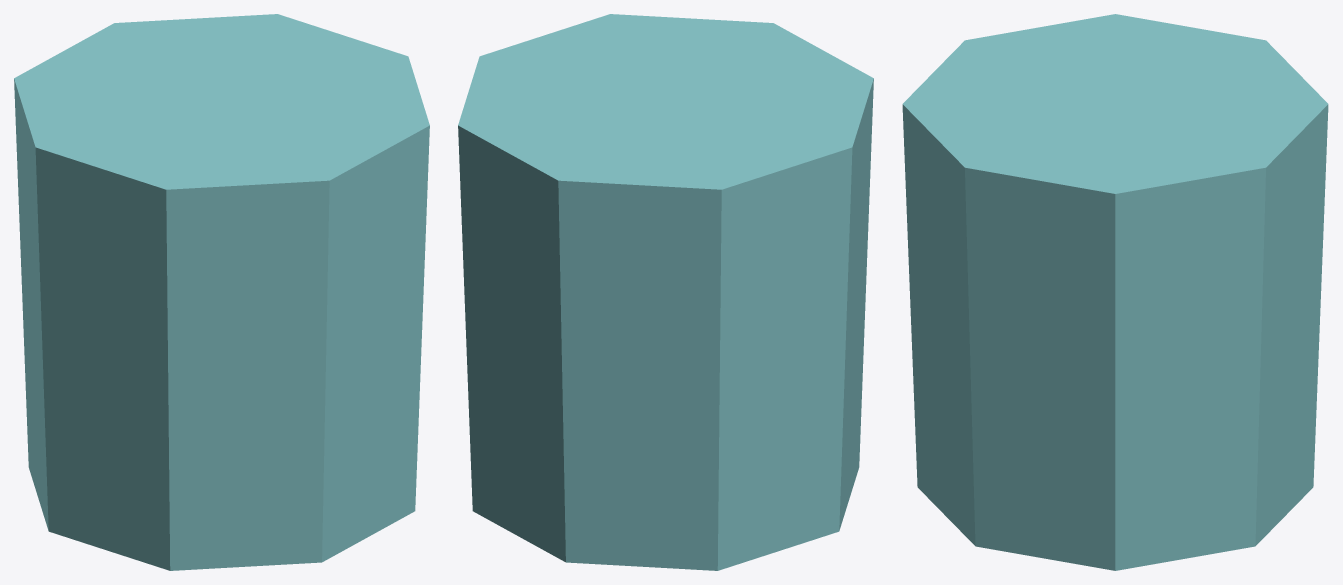
The model's file is glace_test.fbx.
3 renders of one model, left to right at view 1: azimuth 30°, elevation 25°; view 2: azimuth 150°, elevation 25°; view 3: azimuth 270°, elevation 25°, orthographic.
Parts seen in each view (by area): view 1: Sphere005; view 2: Sphere005; view 3: Sphere005.
Part boxes in pixels (x1,y1,x2,y2): Sphere005: (14, 14, 429, 570); Sphere005: (458, 14, 873, 570); Sphere005: (902, 14, 1328, 570).
Bounding box in the file's own units: 45.08 × 44.76 × 45.08.
